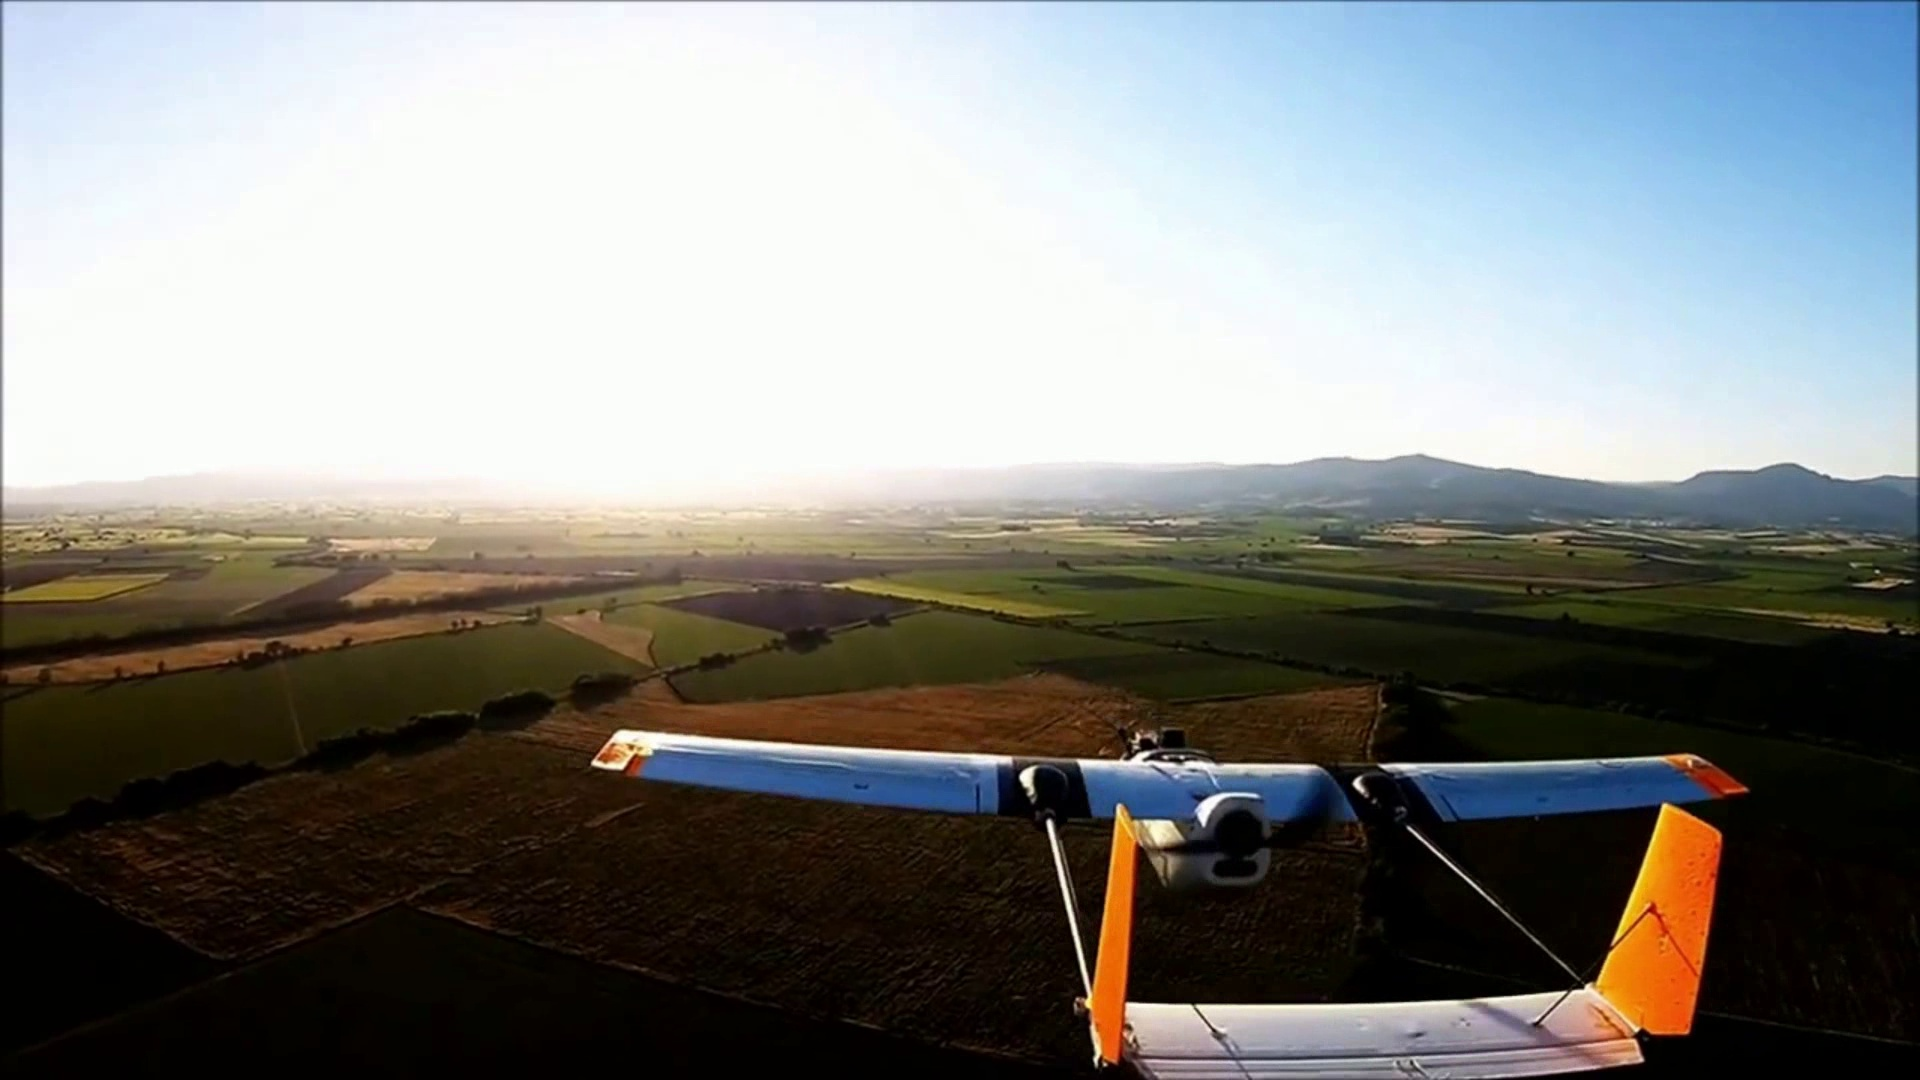airplane: (597, 738, 1759, 1068)
